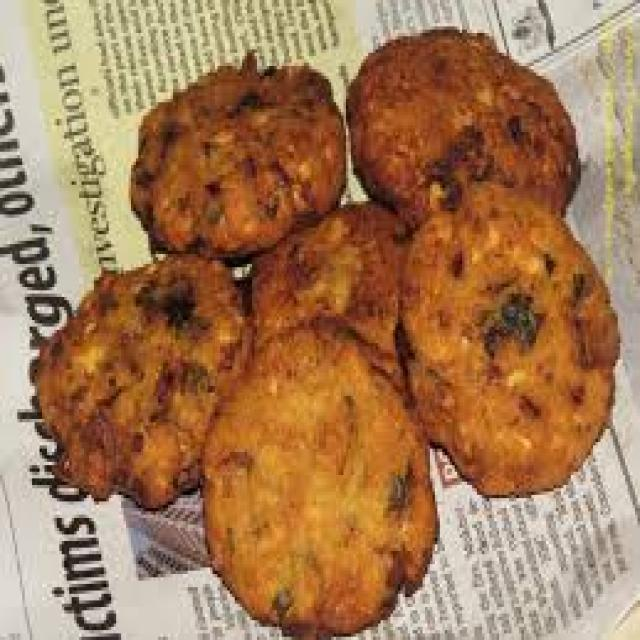parupu vadai: (204, 322, 432, 634), (398, 187, 614, 491), (37, 254, 240, 502), (348, 29, 572, 227), (131, 53, 343, 254), (255, 202, 406, 366)
